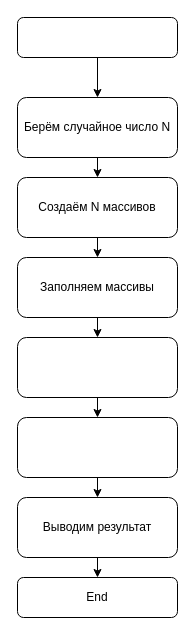
This 195x635 diagram has some shape labels left out. The box of each missing label's shape, as (x1, y1, x2, y2) in pixels:
Start: (16, 16, 178, 58)
Отбираем массивы длинной меньше 4: (16, 336, 178, 398)
Формируем новый массив: (16, 416, 178, 478)
